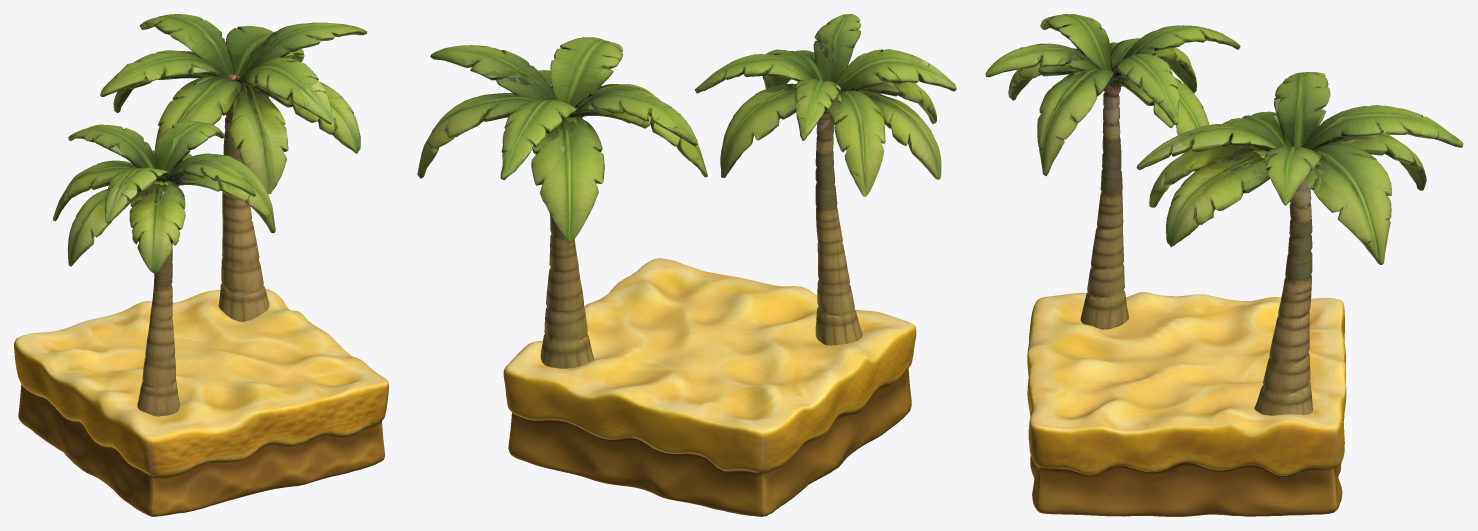
File: veg_palms.glb
3 views of the same model, side by side, from view 1: azimuth 30°, elevation 25°; view 2: azimuth 150°, elevation 25°; view 3: azimuth 270°, elevation 25° (orthographic). The views are drawn at different scales.
Visible parts, largest first — view 1: Mesh0, Mesh1.001, Mesh1.0; view 2: Mesh0, Mesh1.001, Mesh1.0; view 3: Mesh0, Mesh1.001, Mesh1.0.
Boxes of the visible parts, left/top/right/bottom form: Mesh0: left=14, top=288, right=388, bottom=516; Mesh1.001: left=100, top=14, right=366, bottom=321; Mesh1.0: left=53, top=120, right=275, bottom=416; Mesh0: left=503, top=258, right=916, bottom=516; Mesh1.001: left=417, top=37, right=707, bottom=368; Mesh1.0: left=695, top=14, right=956, bottom=345; Mesh0: left=1027, top=292, right=1346, bottom=516; Mesh1.001: left=1136, top=72, right=1463, bottom=415; Mesh1.0: left=985, top=14, right=1240, bottom=329.
Size of the model in its own units: 2.92 by 2.54 by 2.87.
Materials: 2 (2 with a texture image).
